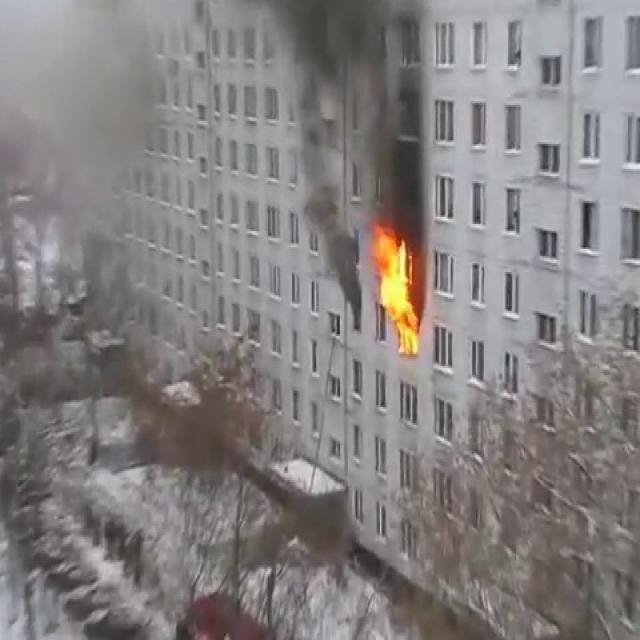Fire: (366, 216, 424, 355)
Smoke: (0, 2, 196, 640), (245, 0, 439, 245)
